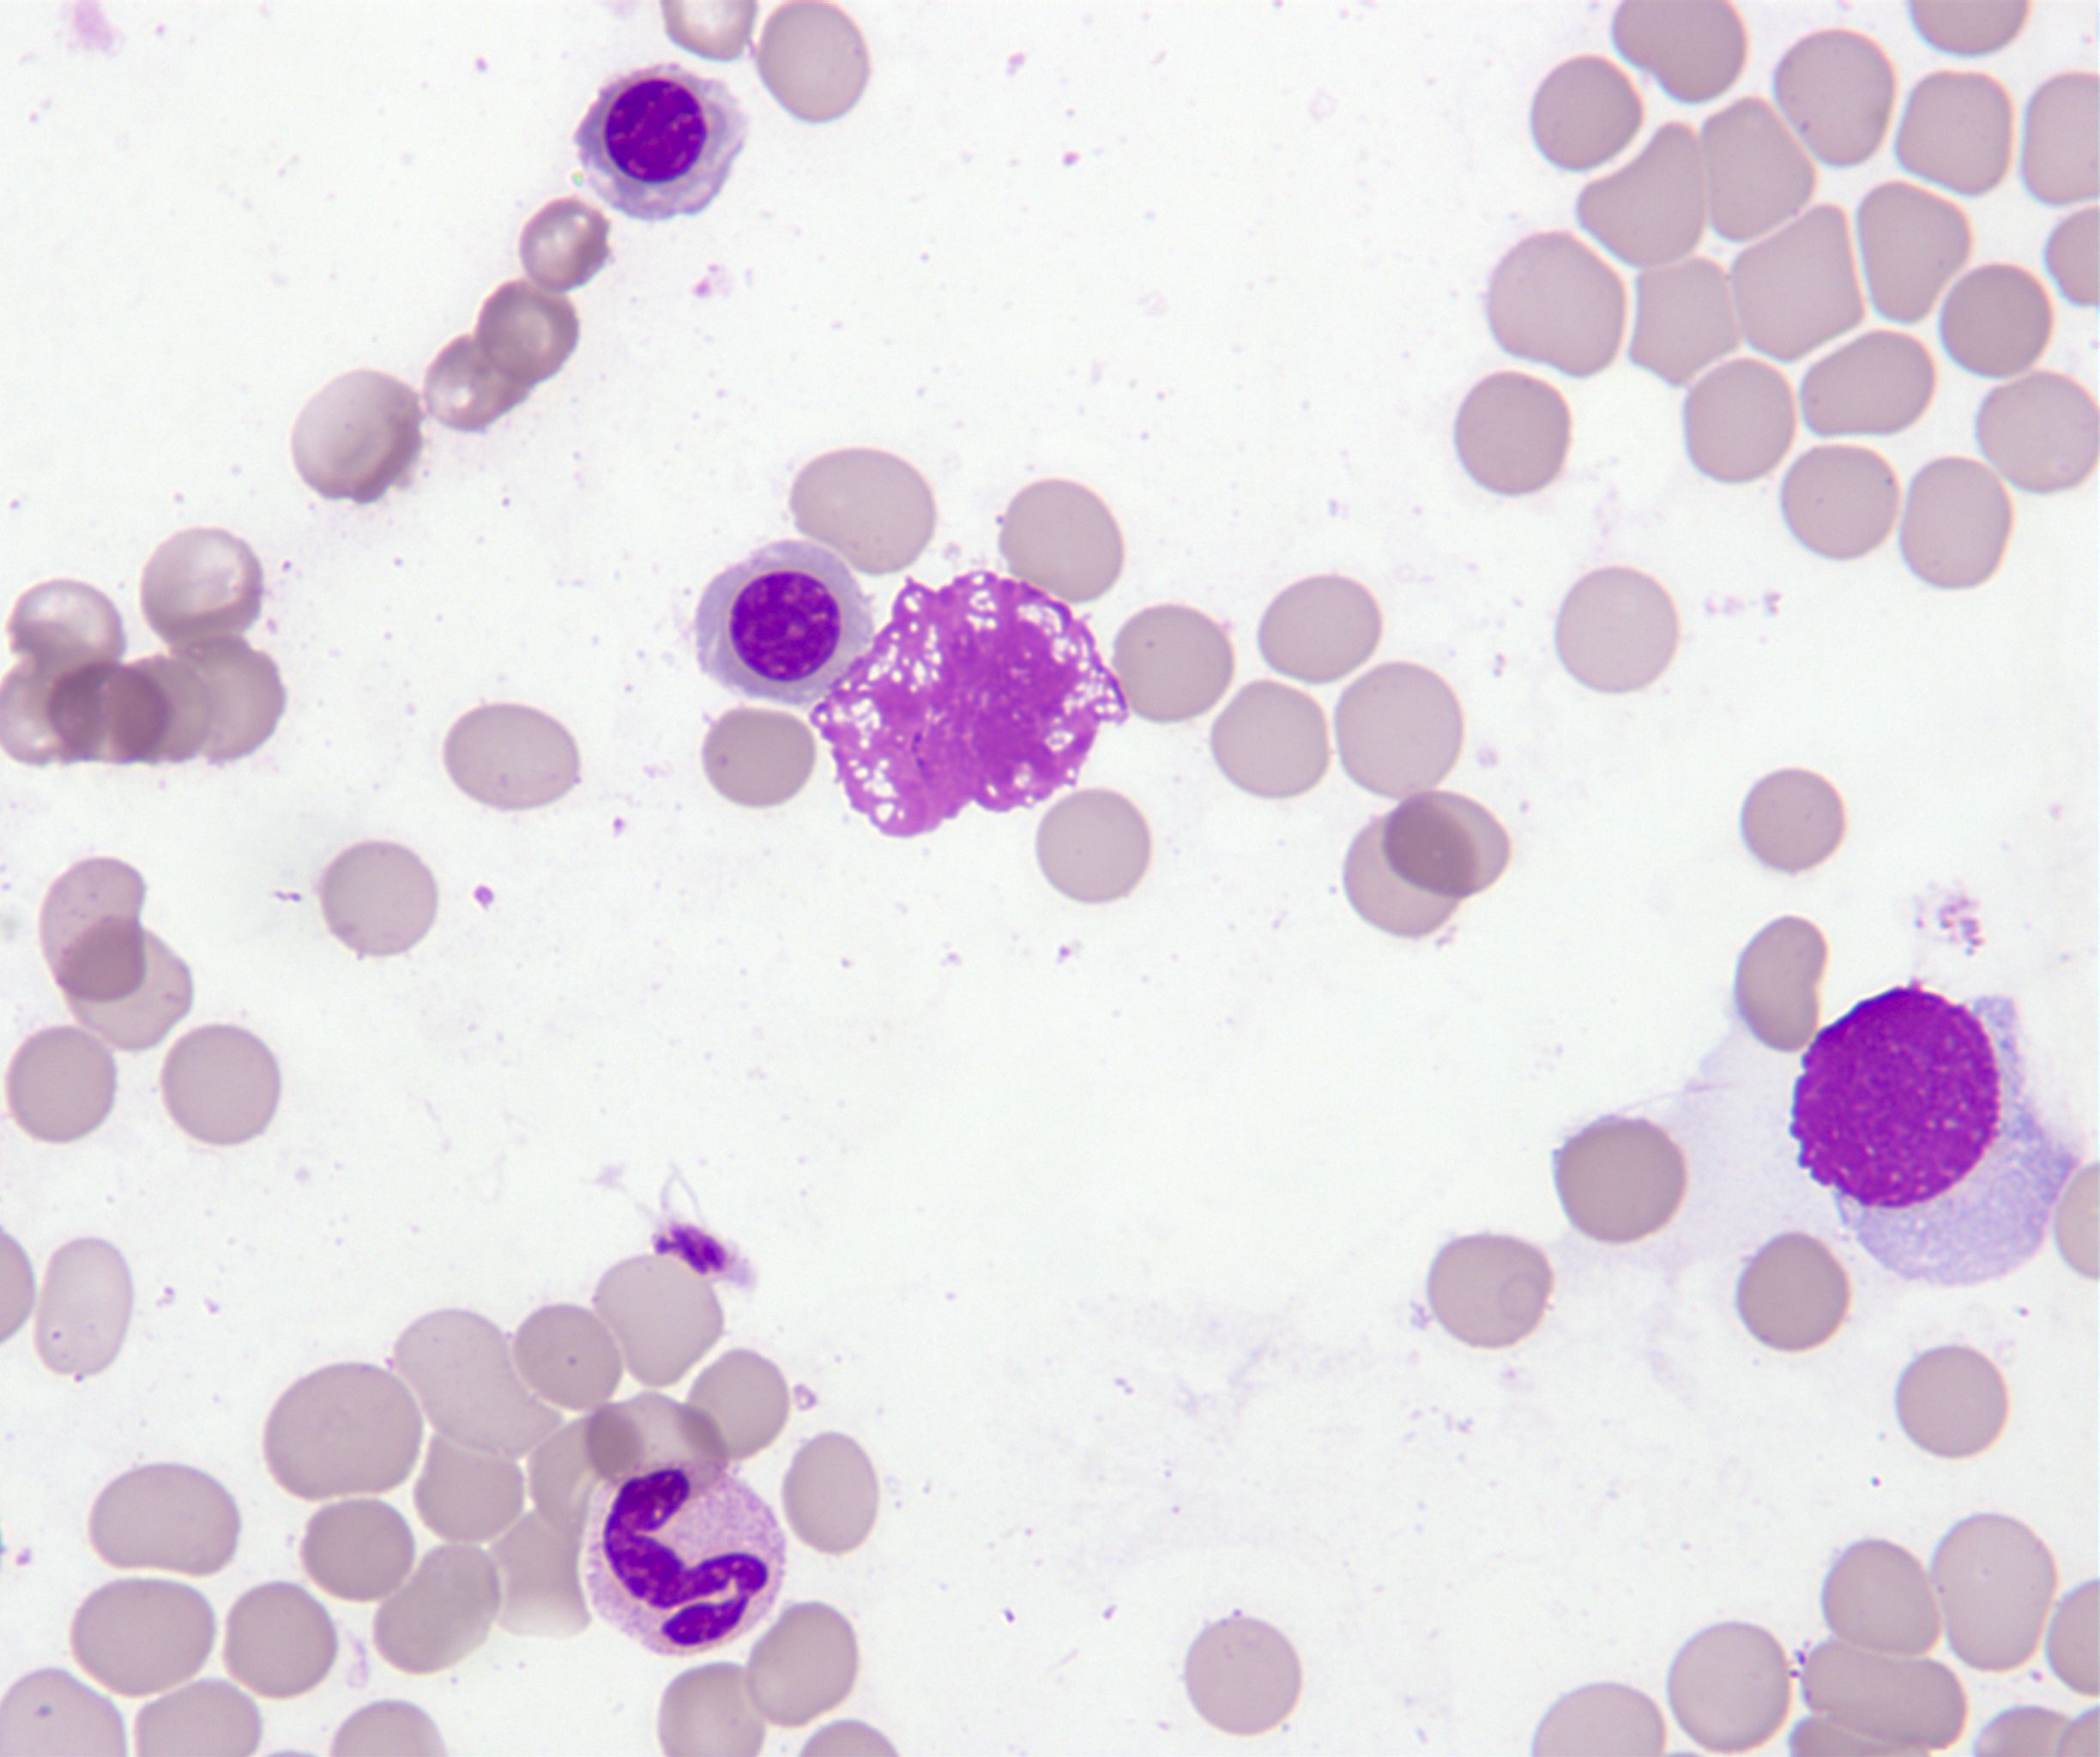24: (696, 543, 874, 707), (570, 63, 745, 218)
6: (584, 1462, 785, 1654)
x: (1788, 988, 2081, 1288), (809, 569, 1127, 837)
